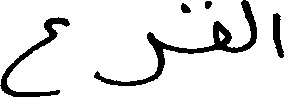ا: (270, 11, 282, 58)
ر: (97, 30, 165, 87)
ع: (0, 14, 70, 95)
ق: (179, 1, 230, 53)
ل: (240, 0, 256, 53)
